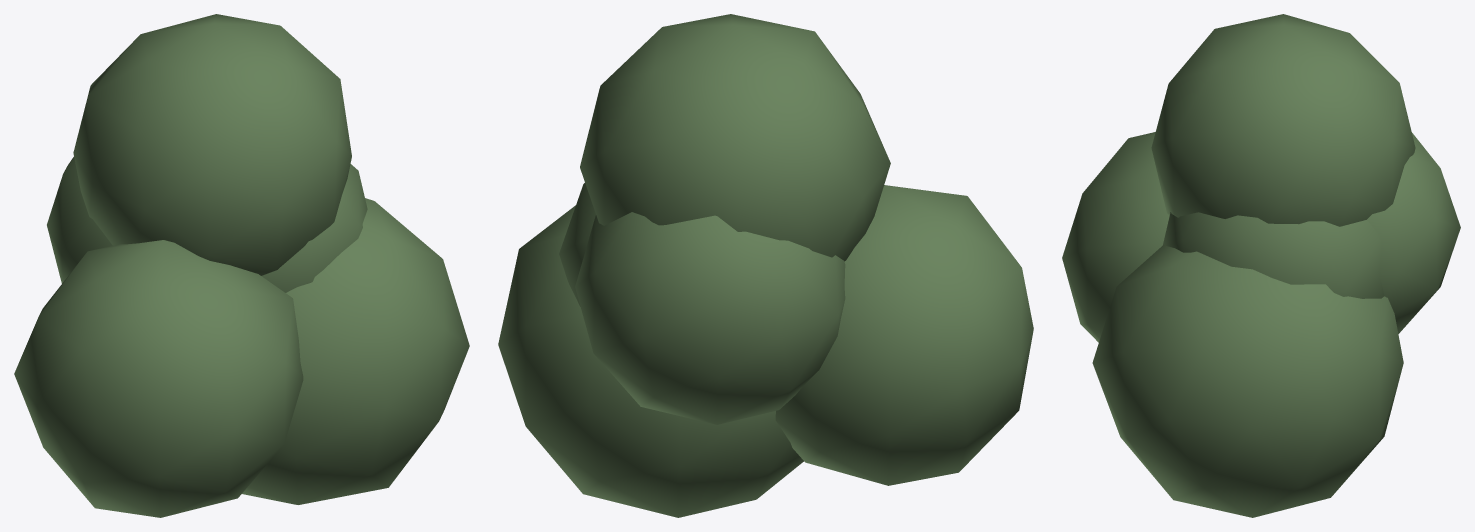
The model's file is NPR_07_2001__MOD__VegetationElements__Topiary__BoxBall__Var-01__.glb.
3 renders of one model, left to right at view 1: azimuth 30°, elevation 25°; view 2: azimuth 150°, elevation 25°; view 3: azimuth 270°, elevation 25°, orthographic. The views are drawn at different scales.
Visible parts, largest first — view 1: NPR_07_2001__MOD__VegetationElements__Topiary__BoxBall__Var-; view 2: NPR_07_2001__MOD__VegetationElements__Topiary__BoxBall__Var-; view 3: NPR_07_2001__MOD__VegetationElements__Topiary__BoxBall__Var-.
Boxes of the visible parts, <box> form: NPR_07_2001__MOD__VegetationElements__Topiary__BoxBall__Var-: <box>14,14,469,517</box>; NPR_07_2001__MOD__VegetationElements__Topiary__BoxBall__Var-: <box>498,14,1033,517</box>; NPR_07_2001__MOD__VegetationElements__Topiary__BoxBall__Var-: <box>1062,14,1460,517</box>.
Size of the model in its own units: 0.7861 by 0.828 by 0.664.
